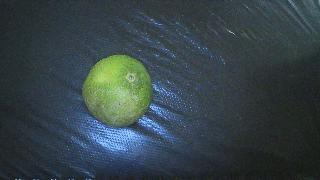DESECHO: (82, 55, 153, 127)
